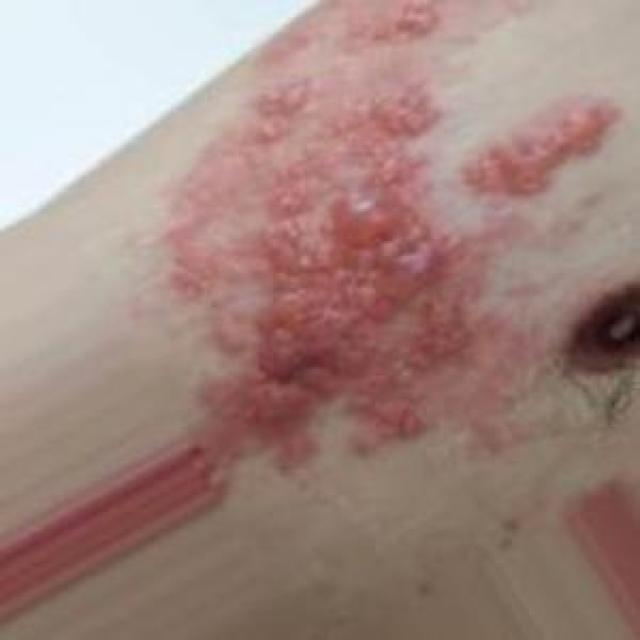Shingles: (169, 75, 458, 467), (456, 98, 624, 193), (369, 0, 441, 52)
